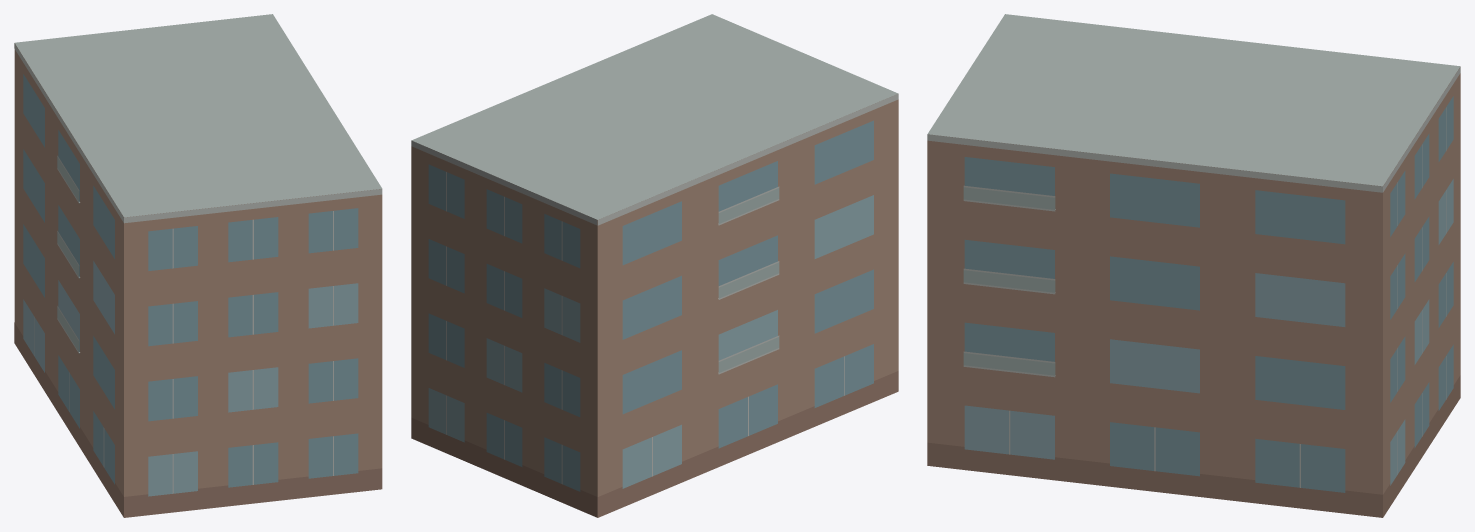
Rendered from survey-upis-32699208.glb.
The picture shows the model from 3 angles, left to right: view 1: azimuth 30°, elevation 25°; view 2: azimuth 150°, elevation 25°; view 3: azimuth 270°, elevation 25°; orthographic projection. The views are drawn at different scales.
Parts seen in each view (by area): view 1: survey-upis-32699208.tmp; view 2: survey-upis-32699208.tmp; view 3: survey-upis-32699208.tmp.
Part boxes in pixels (left/top/right/bottom): survey-upis-32699208.tmp: left=14, top=14, right=382, bottom=517; survey-upis-32699208.tmp: left=411, top=14, right=898, bottom=517; survey-upis-32699208.tmp: left=927, top=14, right=1460, bottom=517.
Size of the model in its own units: 14.02 by 12.56 by 18.33.
